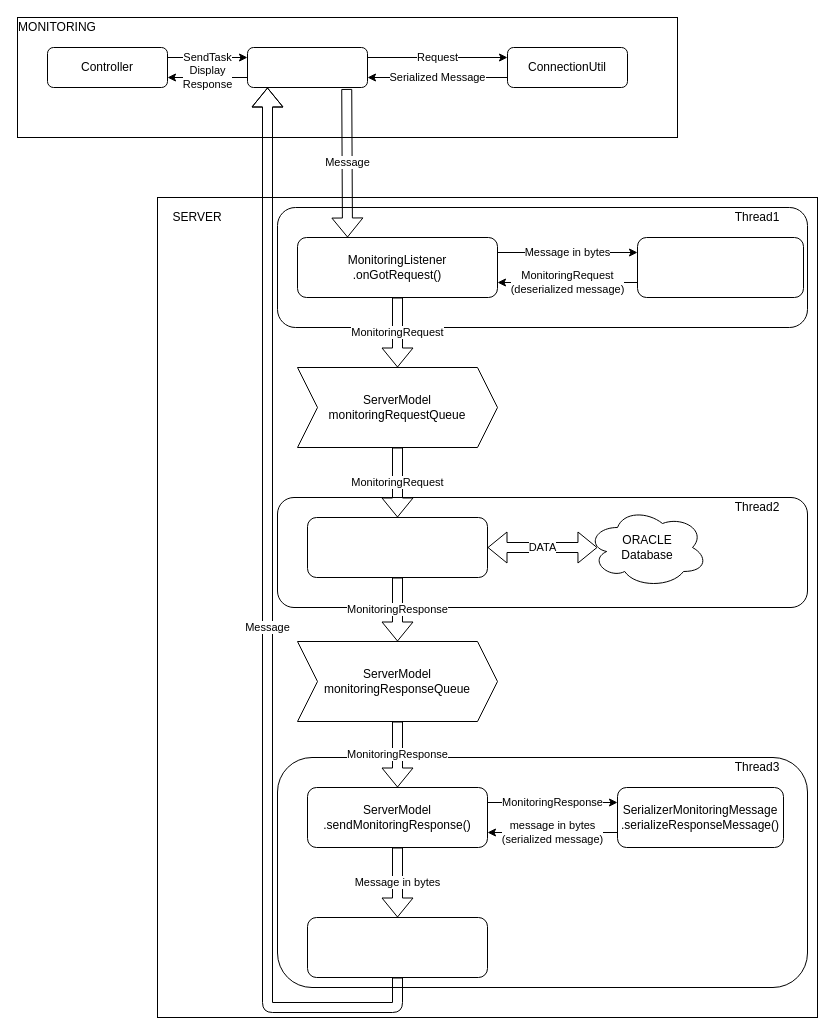
The diagram is 835 pixels wide and 1035 high, and some of its shapes have lost their labels. The centre of each missing label's shape, as x and y in pixels:
ConnectionManager: point 307,67
MonitroringListener .send(): point 397,947
SerializerMonitoringMessage .analyzeMessage(): point 720,267
ServerModel .executeMonitoringRequest(): point 397,547
